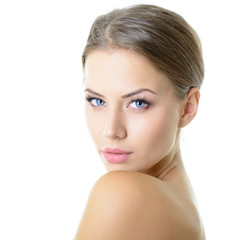teen: (72, 11, 202, 173)
